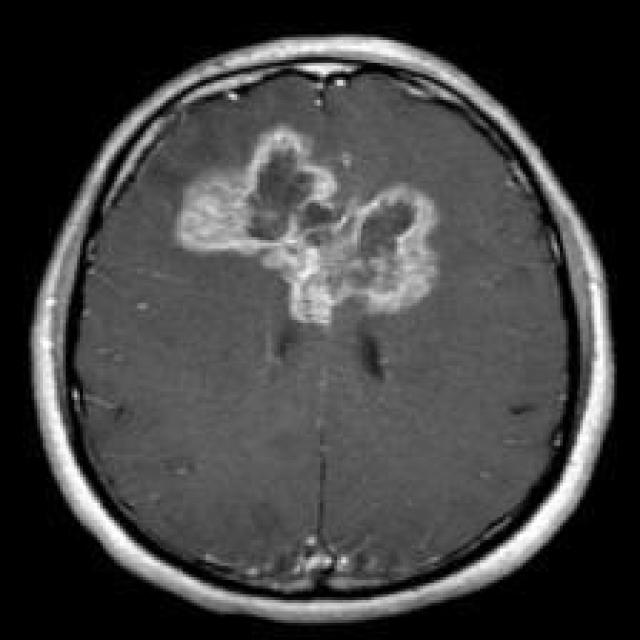Tumor: (177, 126, 440, 329)
